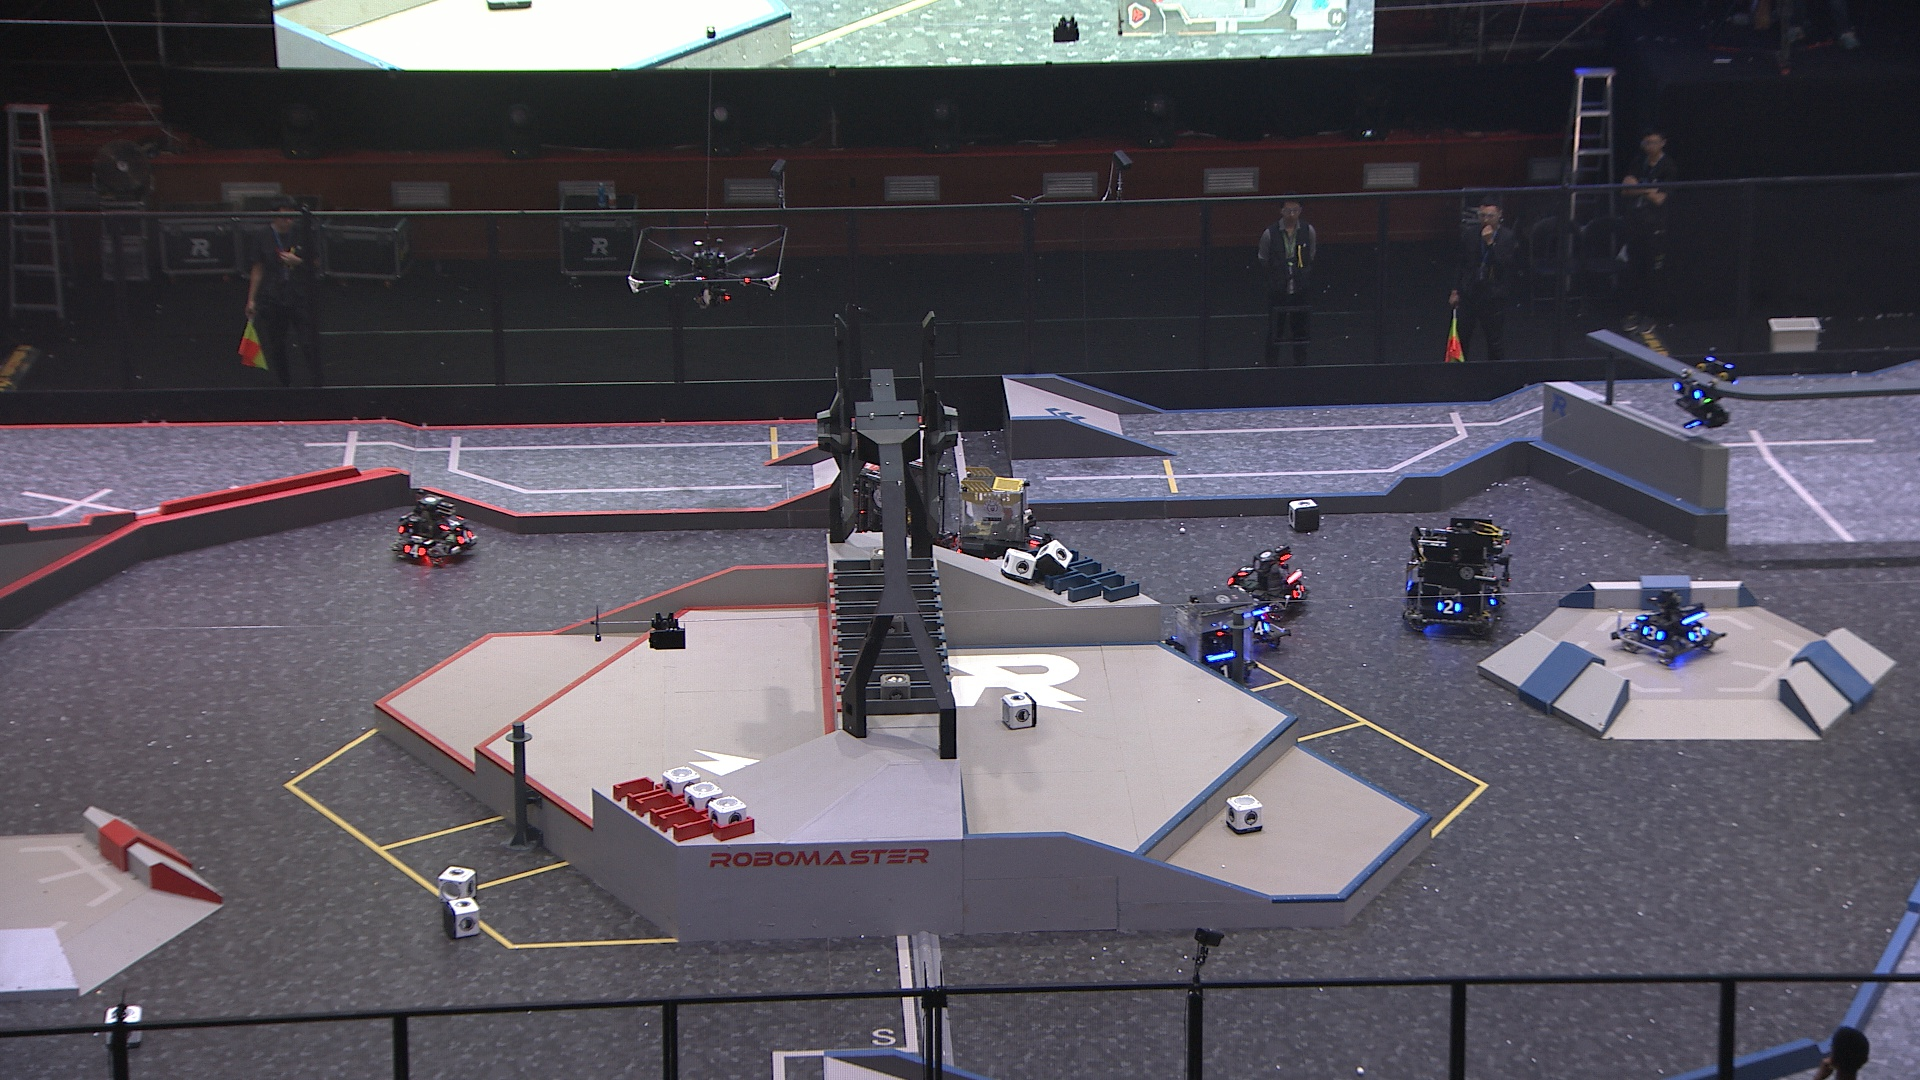armor: (1673, 380, 1702, 401), (1209, 659, 1237, 678), (439, 514, 465, 531), (1640, 624, 1662, 645), (1437, 597, 1461, 616), (401, 541, 425, 559), (1247, 618, 1271, 636), (1288, 582, 1305, 603), (1685, 626, 1708, 642), (1029, 524, 1043, 546), (1638, 608, 1659, 622), (456, 529, 472, 547), (1237, 564, 1254, 578)
car: (849, 451, 971, 570), (1400, 510, 1509, 632), (1159, 583, 1257, 694), (956, 469, 1054, 568), (1610, 588, 1724, 665), (1224, 543, 1313, 628), (389, 491, 480, 571), (1220, 591, 1296, 661)
watcher: (1669, 353, 1742, 429)
